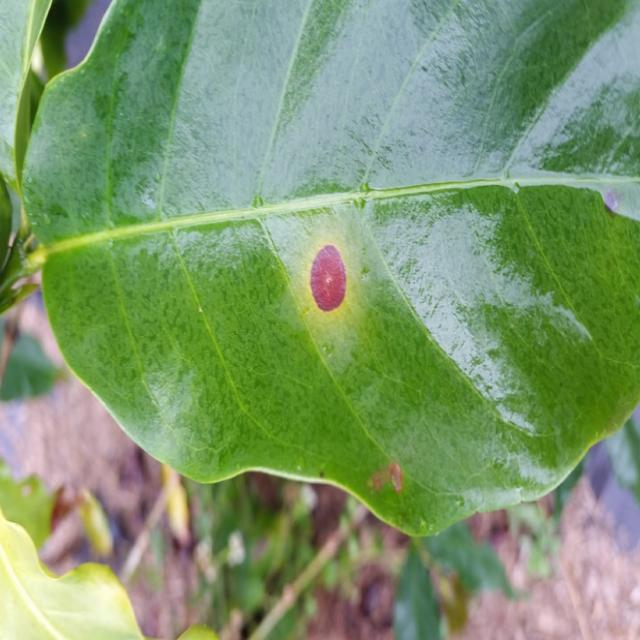Enfermedad-Mancha-de-hierro: (20, 0, 640, 541)
